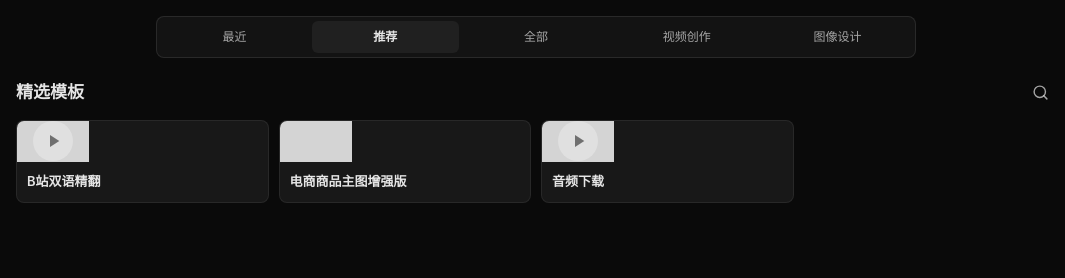
Test: CreatorDashboard › groups every preset into the video and image categories
Click the tab "视频创作": (687, 37) 613,21 -> 760,53
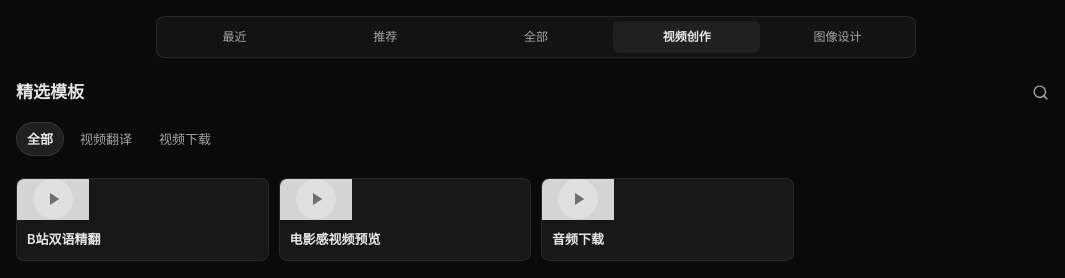
Expected: the button with aria-label "查看B站双语精翻模板详情" is shown, 16,178 -> 268,260
Expected: the button "查看电商商品主图增强版模板详情" is gone
Click the tab "图像设计": (838, 37) 764,21 -> 911,53
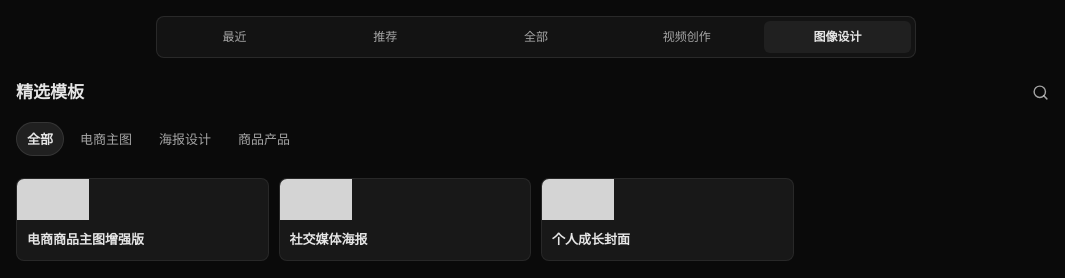
Expected: the button with aria-label "查看电商商品主图增强版模板详情" is shown, 16,178 -> 268,260
Expected: the button with aria-label "查看社交媒体海报模板详情" is shown, 278,178 -> 531,260
Expected: the button with aria-label "查看个人成长封面模板详情" is shown, 541,178 -> 794,260
